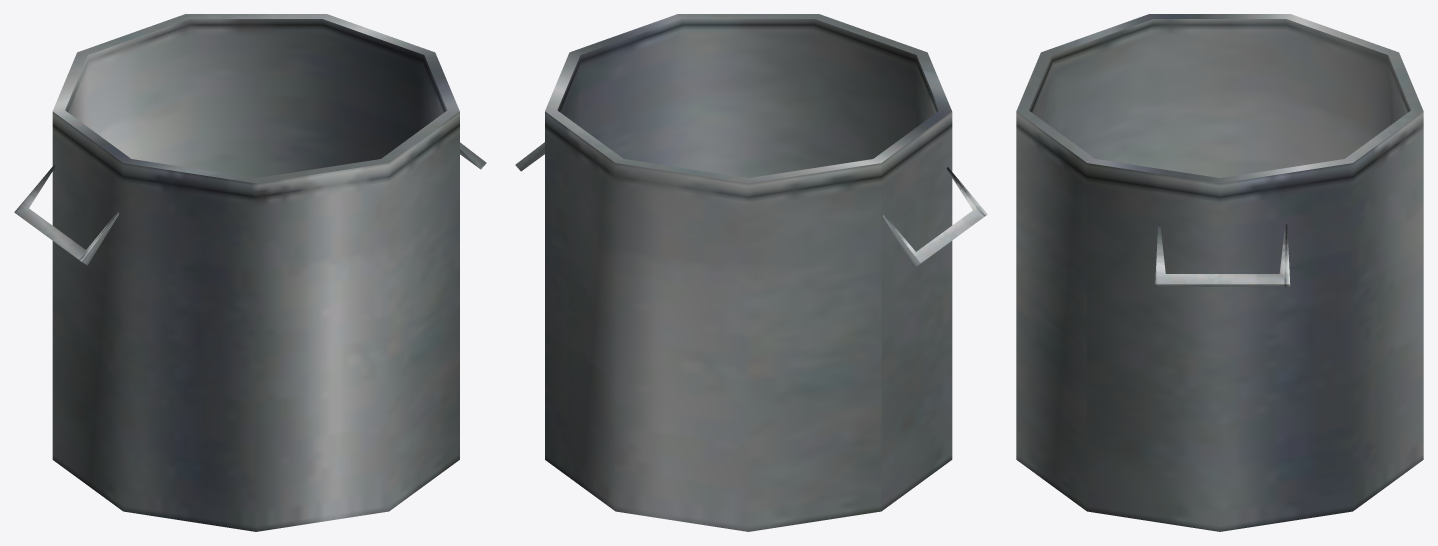
File: shadow_model.fbx
The picture shows the model from 3 angles, left to right: view 1: azimuth 30°, elevation 25°; view 2: azimuth 150°, elevation 25°; view 3: azimuth 270°, elevation 25°; orthographic projection.
Parts seen in each view (by area): view 1: mesh_0; view 2: mesh_0; view 3: mesh_0.
Part boxes in pixels (left/top/right/bottom): mesh_0: left=14, top=14, right=486, bottom=531; mesh_0: left=515, top=14, right=987, bottom=531; mesh_0: left=1016, top=14, right=1423, bottom=531.
Bounding box in the file's own units: 35.41 × 29.09 × 30.82.
Materials: 1 (1 with a texture image).
